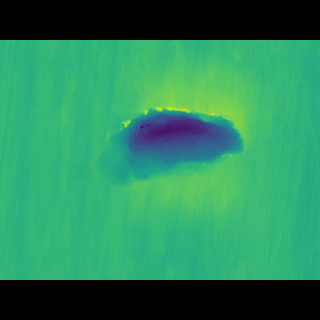Loch: (69, 114, 244, 187)
